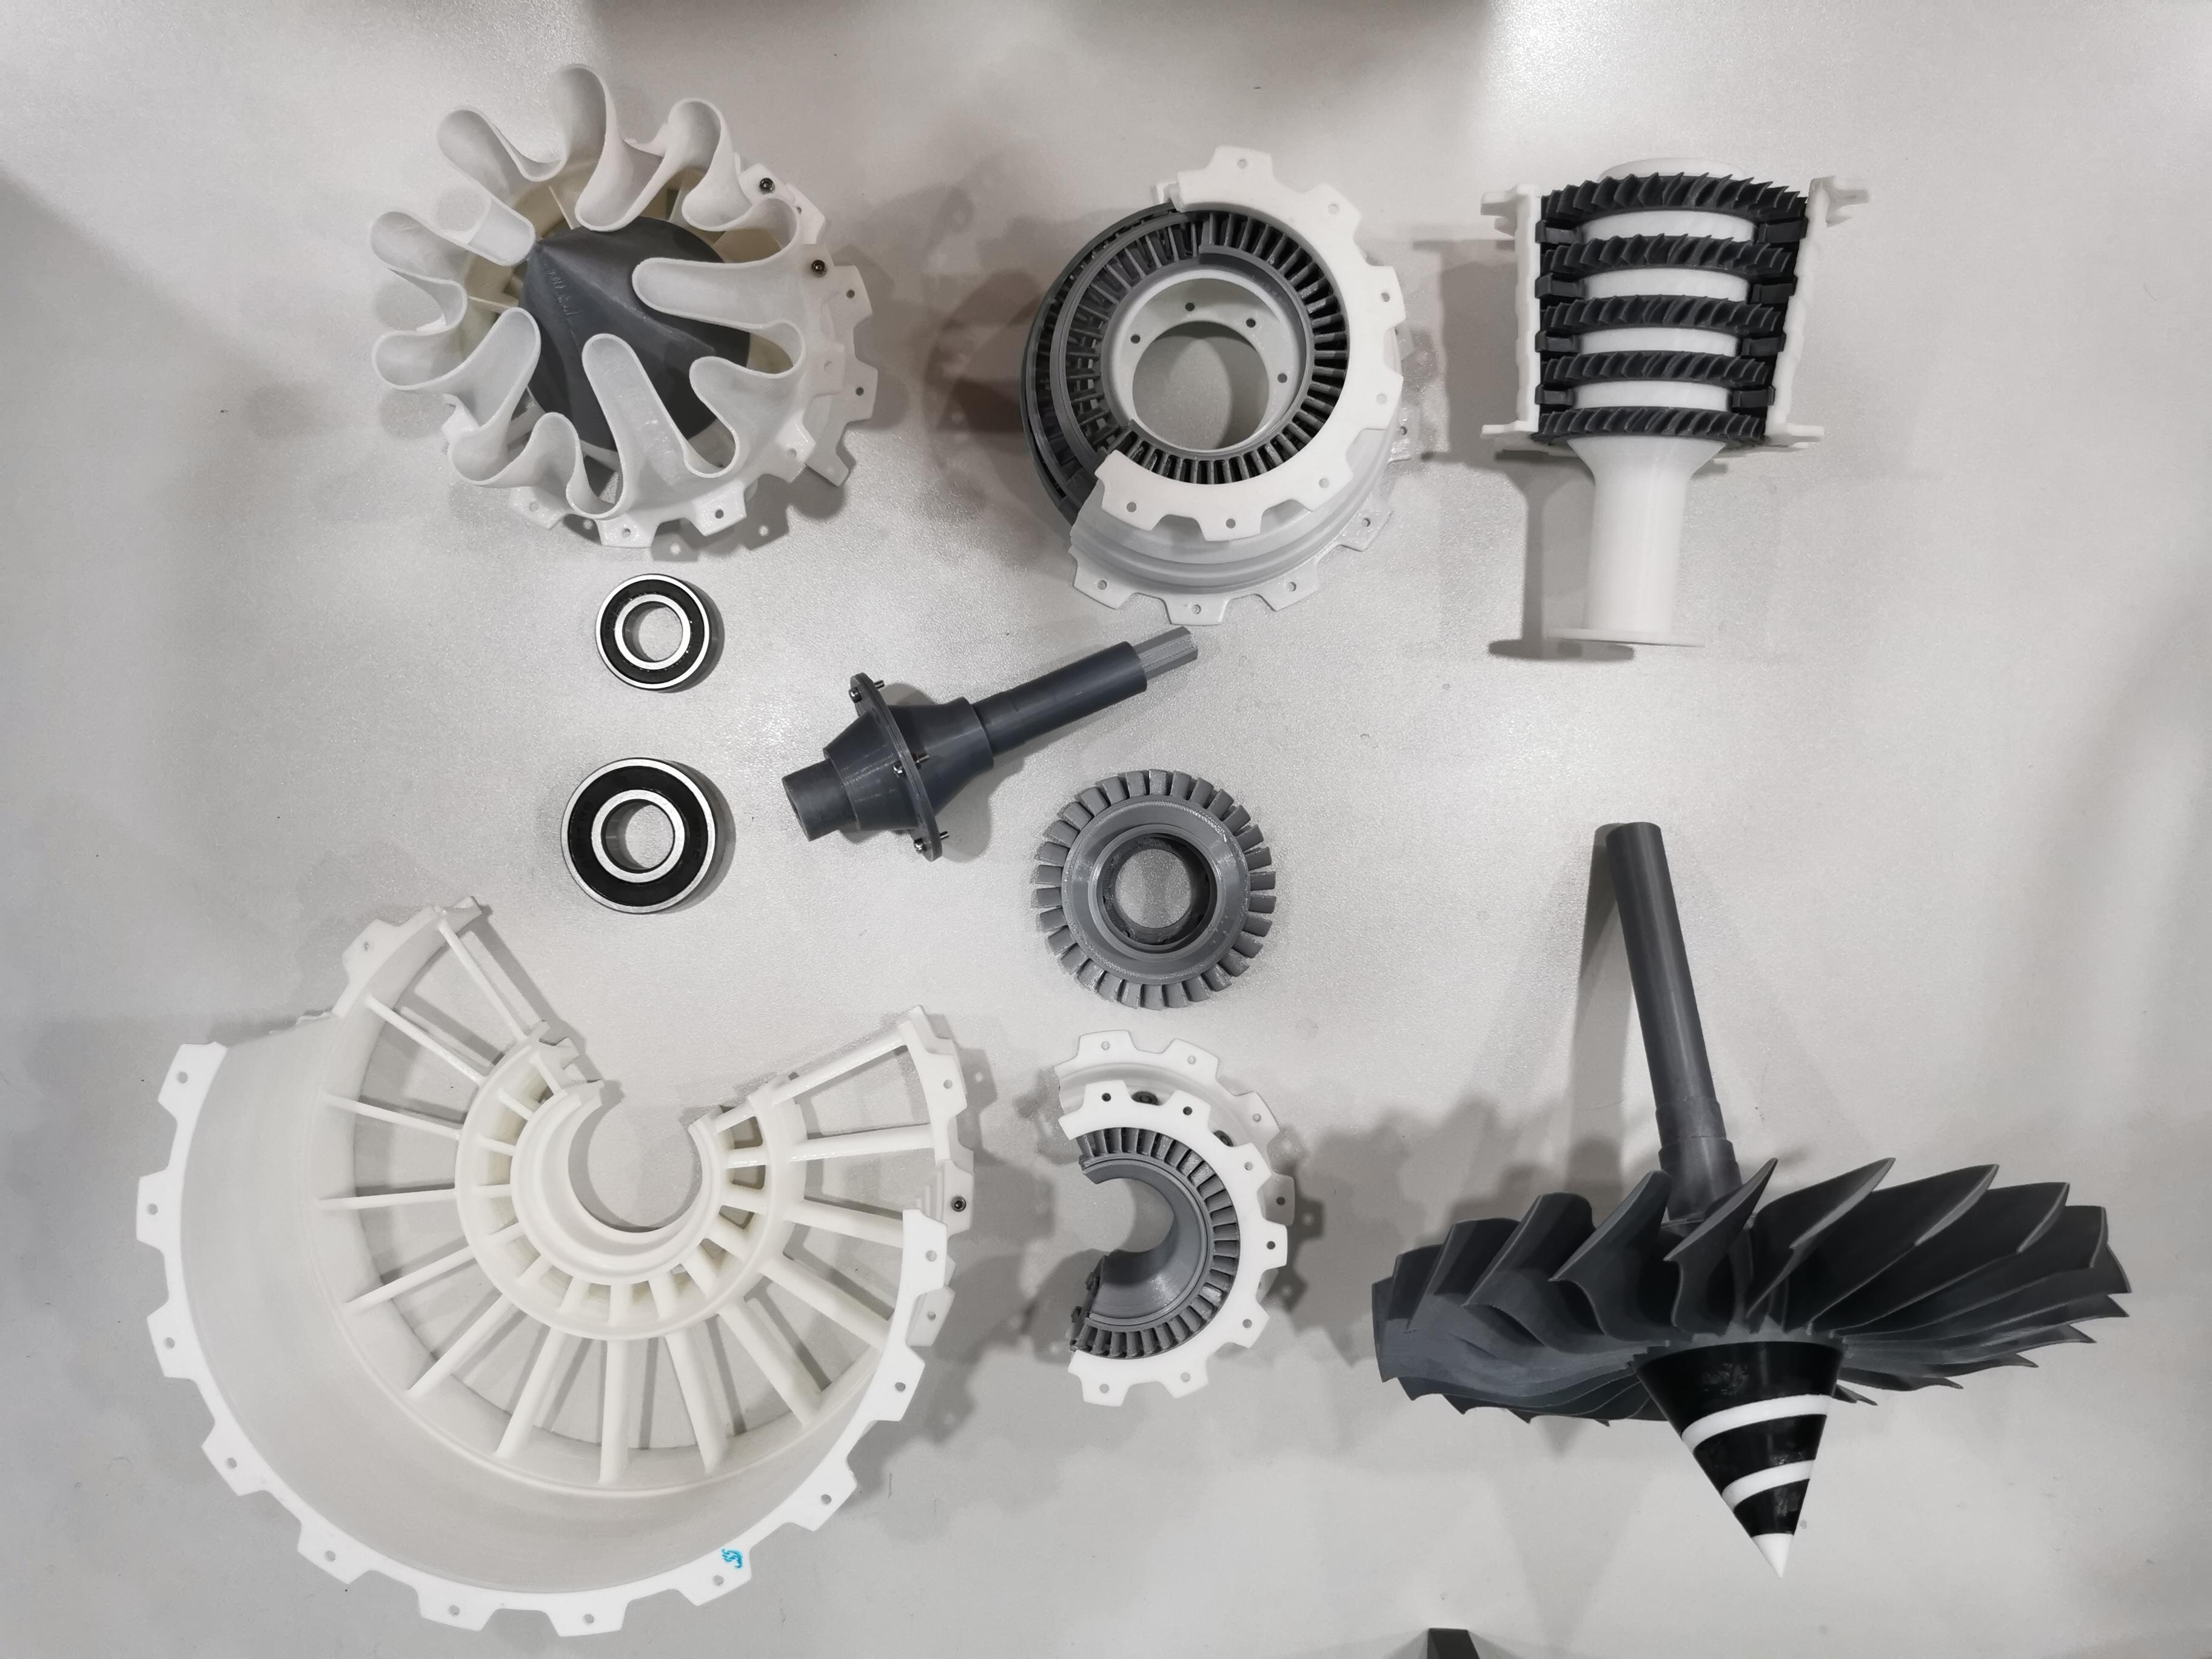Bearing-6003: (568, 561, 747, 714)
Bearing-6204: (549, 744, 747, 927)
Combustion Section: (1014, 1016, 1317, 1413)
Fan Casing and Support: (124, 889, 993, 1647)
Fan and Low Pressure Shaft: (1355, 807, 2144, 1593)
HPT Section: (1014, 753, 1301, 1021)
High Pressure Spool: (1463, 139, 1895, 673)
LPT Section: (995, 134, 1454, 638)
Low Pressure Spool: (780, 624, 1204, 873)
Nozzle Section: (354, 54, 890, 566)
